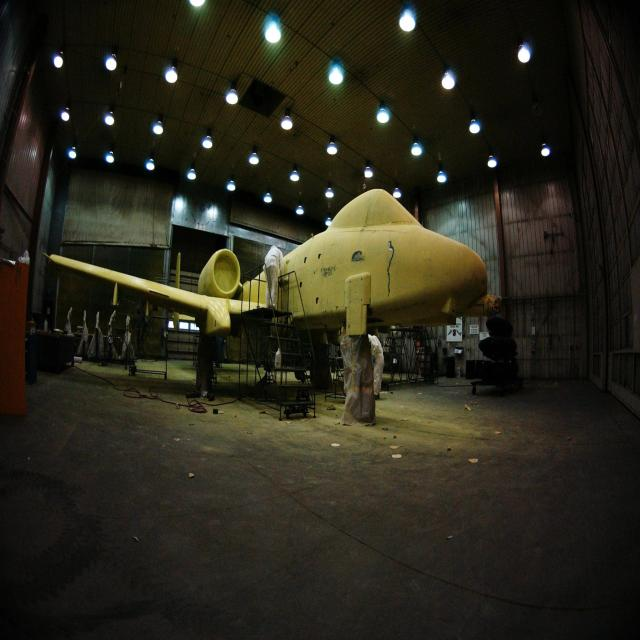MIL_Plane: (42, 189, 502, 422)
